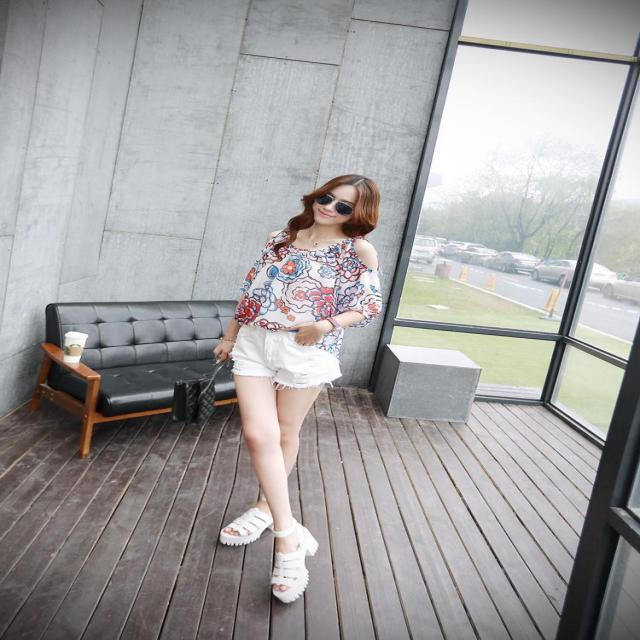long sleeve top: (240, 229, 381, 364)
shorts: (233, 319, 343, 381)
